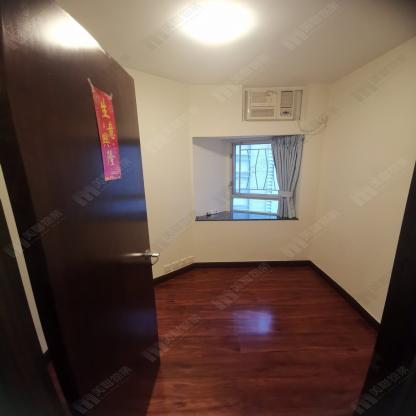AC: (244, 90, 302, 123)
Windowsill: (193, 134, 307, 221)
